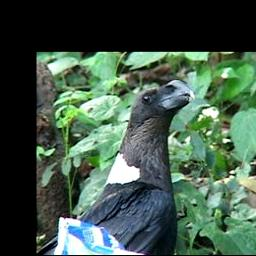Crow: (66, 80, 196, 254)
